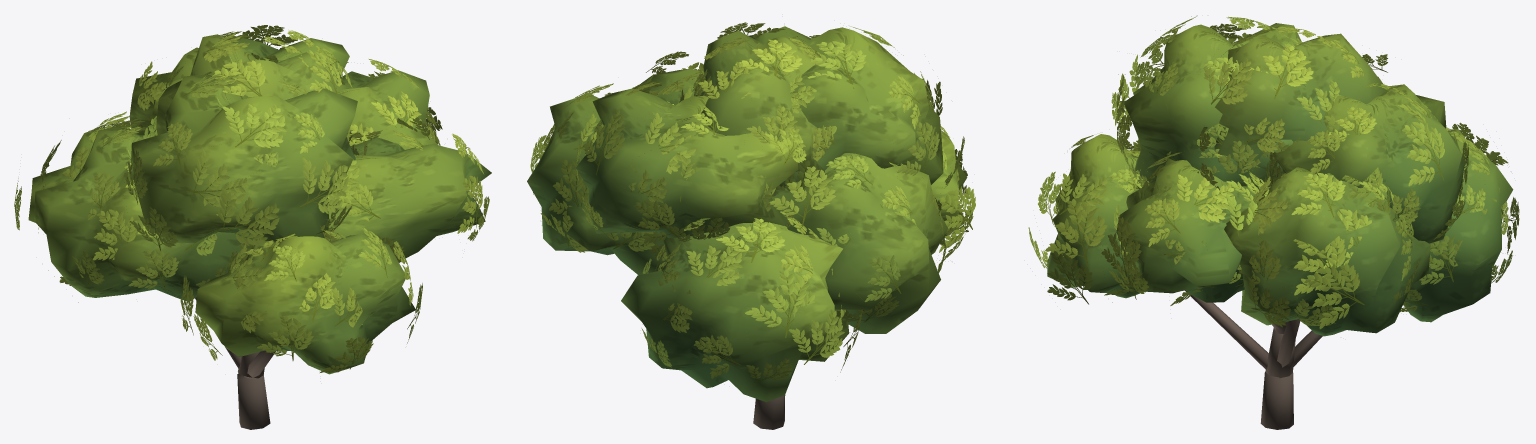
Rendered from maple.glb.
3 views of the same model, side by side, from view 1: azimuth 30°, elevation 25°; view 2: azimuth 150°, elevation 25°; view 3: azimuth 270°, elevation 25° (orthographic). The views are drawn at different scales.
Parts seen in each view (by area): view 1: maple; view 2: maple; view 3: maple.
Boxes of the visible parts, x1=… form: maple: x1=14, y1=25, x2=491, y2=429; maple: x1=527, y1=22, x2=975, y2=429; maple: x1=1028, y1=15, x2=1519, y2=429.
Bounding box in the file's own units: 7.91 × 7.38 × 8.4.
Materials: 1 (1 with a texture image).
